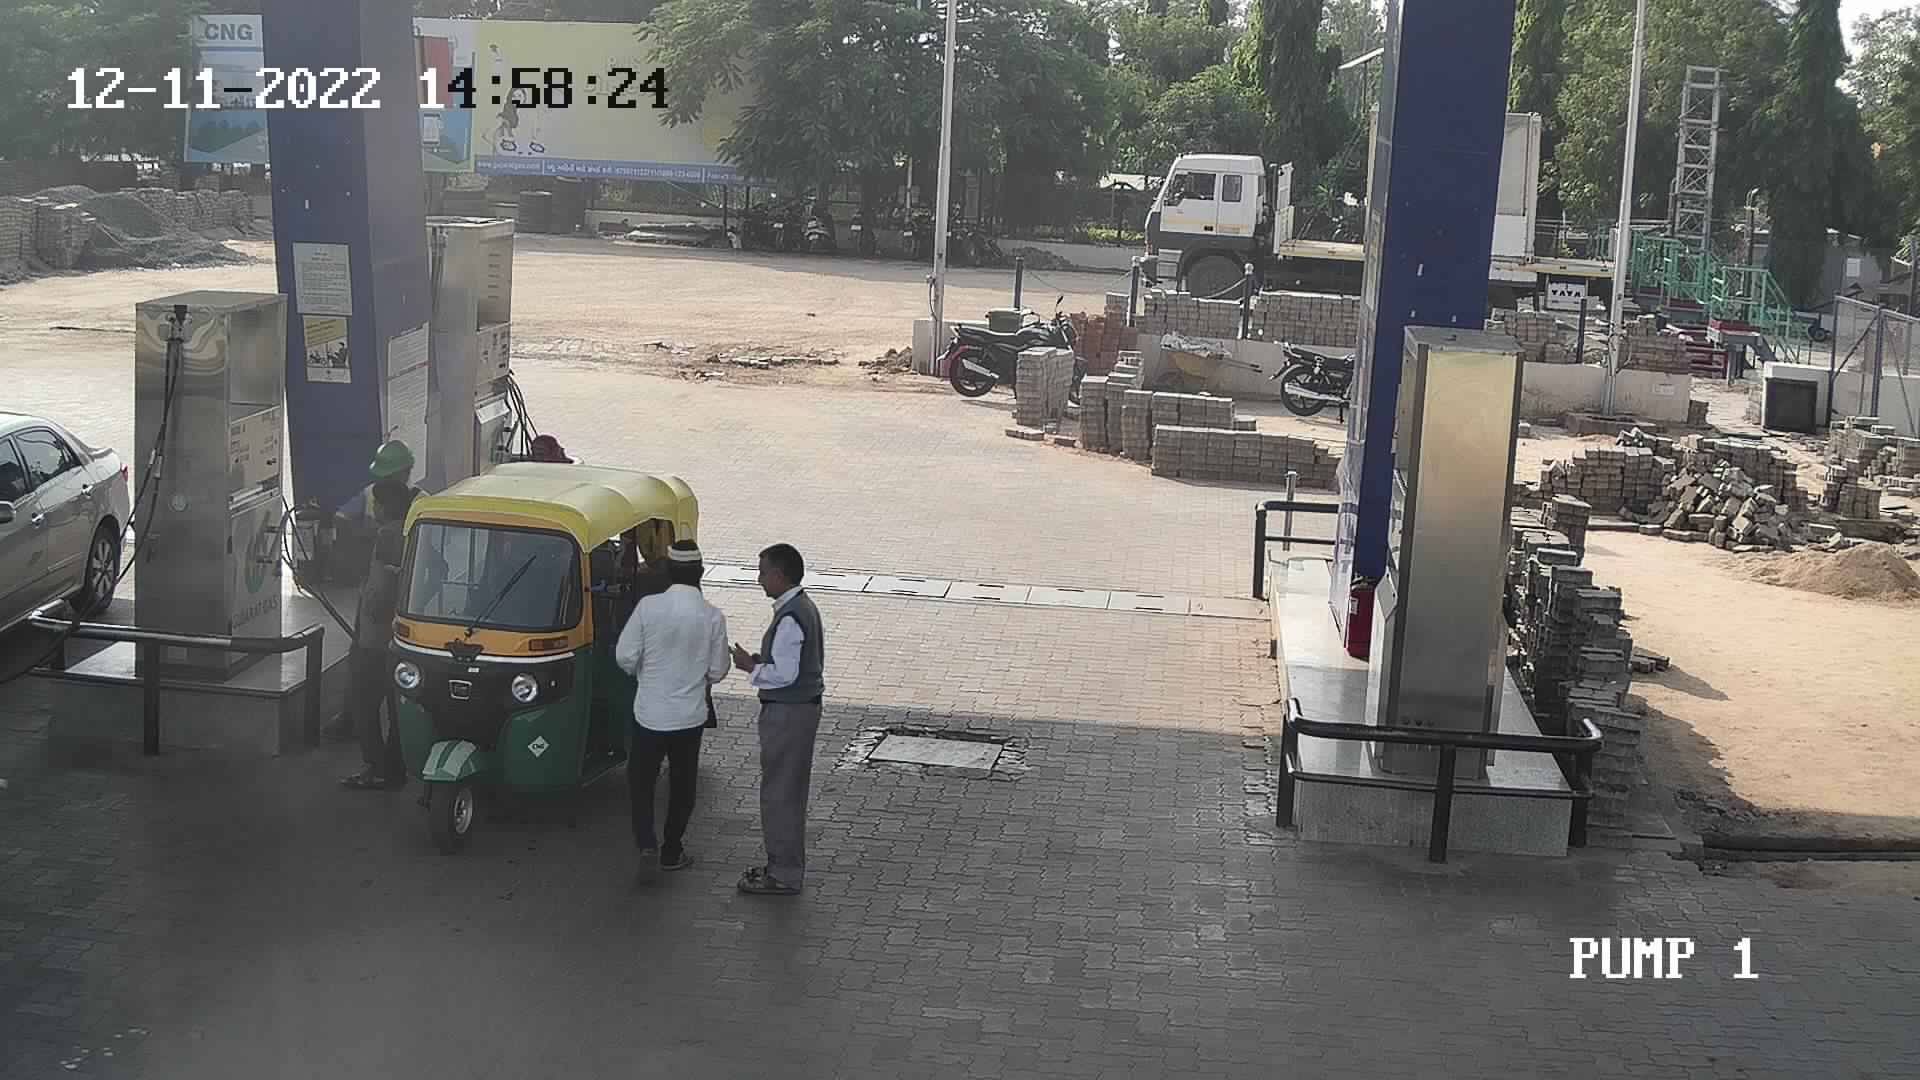Auto: (364, 438, 700, 844)
Bike: (930, 291, 1102, 427), (1261, 334, 1360, 427), (938, 198, 1017, 276), (885, 189, 938, 272), (724, 186, 786, 253), (793, 185, 844, 260), (840, 189, 885, 266), (767, 179, 812, 257)
Car: (0, 381, 133, 746)
HMV: (1120, 95, 1382, 332)
Others: (324, 434, 419, 746)
